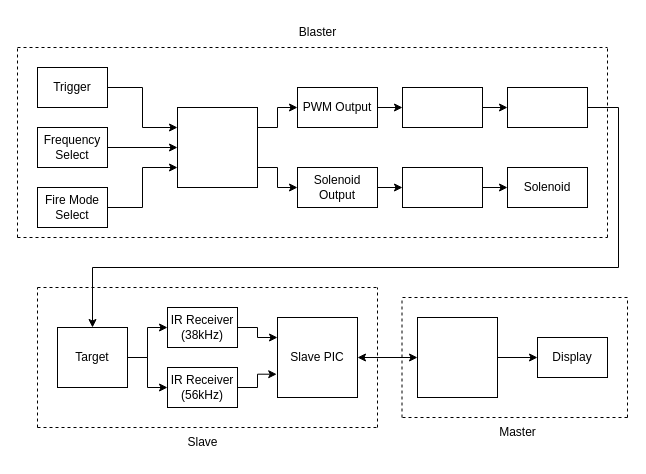
Image size: 646x474. Some labels were removed from this diagram. Each missing label, with the box of its shape:
Blaster PIC: (176, 106, 258, 188)
Laser: (506, 86, 588, 128)
Laser Driver: (402, 86, 482, 128)
Master PIC: (416, 316, 498, 398)
Solenoid Driver: (402, 166, 482, 208)
